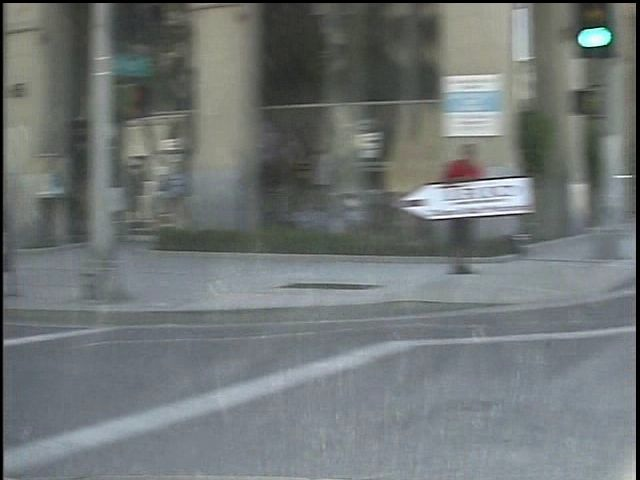person: (427, 136, 471, 282)
